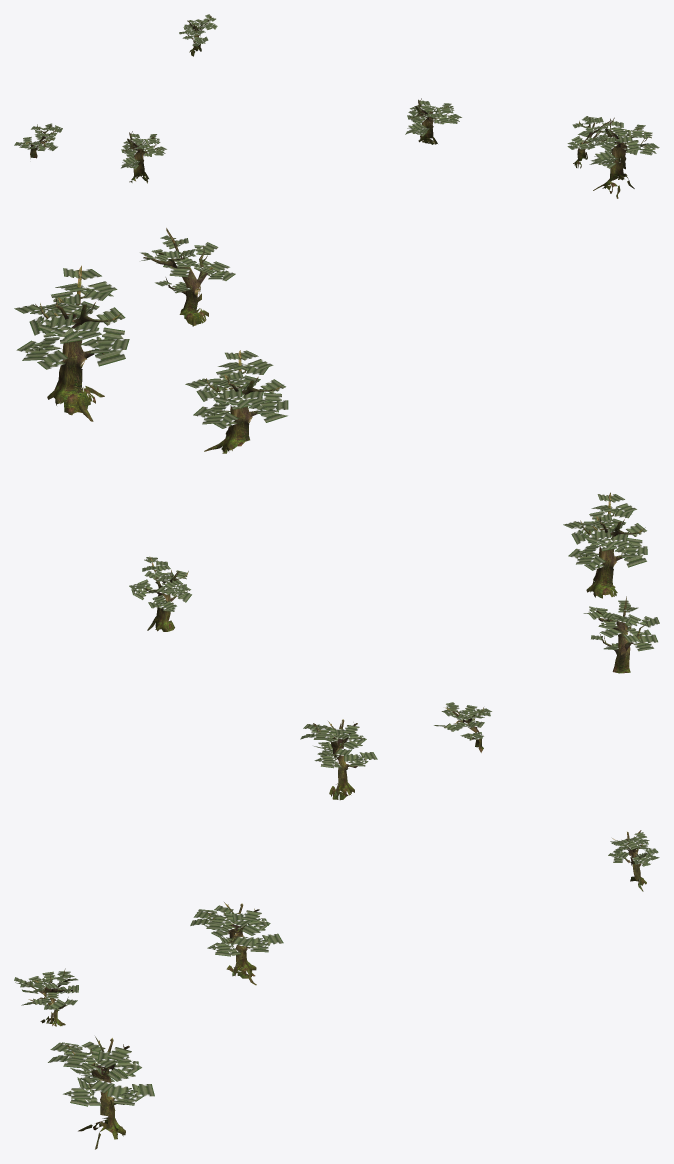
File: S_Tree_3100_003.FBX
3 views of the same model, one above another, from view 1: azimuth 30°, elevation 25°; view 2: azimuth 150°, elevation 25°; view 3: azimuth 270°, elevation 25° (orthographic). The views are drawn at different scales.
Parts seen in each view (by area): view 1: S_Tree_Green022_002, S_Tree_Green022_004, S_Tree_Green022_001, S_Tree_Green021_001, S_Tree_Green021_002, S_Tree_Green022_003; view 2: S_Tree_Green022_002, S_Tree_Green022_004, S_Tree_Green022_001, S_Tree_Green021_001, S_Tree_Green021_002, S_Tree_Green022_003; view 3: S_Tree_Green022_002, S_Tree_Green022_004, S_Tree_Green022_001, S_Tree_Green021_001, S_Tree_Green022_003, S_Tree_Green021_002.
Boxes of the visible parts, x1,y1,x2,y2 form: S_Tree_Green022_002: (589,117,659,198); S_Tree_Green022_004: (405,98,461,144); S_Tree_Green022_001: (121,131,166,183); S_Tree_Green021_001: (567,116,615,168); S_Tree_Green021_002: (14,123,62,158); S_Tree_Green022_003: (179,14,217,56); S_Tree_Green022_002: (14,265,129,421); S_Tree_Green022_004: (185,350,288,453); S_Tree_Green022_001: (563,492,647,598); S_Tree_Green021_001: (140,228,235,326); S_Tree_Green021_002: (583,596,659,673); S_Tree_Green022_003: (129,556,191,631); S_Tree_Green022_002: (48,1036,154,1149); S_Tree_Green022_004: (190,902,283,985); S_Tree_Green022_001: (300,719,377,800); S_Tree_Green021_001: (14,968,78,1026); S_Tree_Green022_003: (608,830,659,891); S_Tree_Green021_002: (434,702,491,752).
Size of the model in its own units: 12653 by 2339 by 9599.
